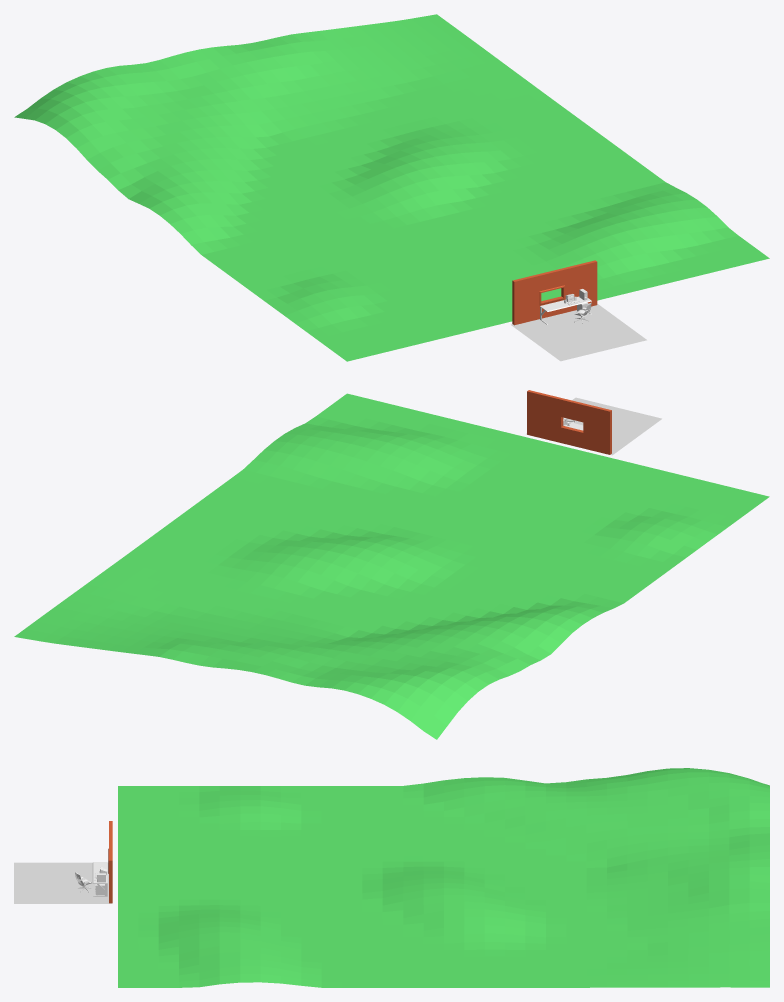
Rendered from modele.glb.
The picture shows the model from 3 angles, top to bottom: view 1: azimuth 30°, elevation 25°; view 2: azimuth 150°, elevation 25°; view 3: azimuth 270°, elevation 25°; orthographic projection. The views are drawn at different scales.
Visible parts, largest first — view 1: Plane, Floor, Wall; view 2: Plane, Wall, Floor; view 3: Plane, Floor.
Part boxes in pixels (bbox=[...]): Plane: bbox=[14, 14, 769, 361]; Floor: bbox=[511, 304, 646, 361]; Wall: bbox=[512, 260, 597, 325]; Plane: bbox=[14, 393, 769, 739]; Wall: bbox=[527, 390, 611, 454]; Floor: bbox=[526, 397, 661, 455]; Plane: bbox=[118, 768, 769, 987]; Floor: bbox=[14, 862, 112, 903].
Bounding box in the file's own units: 200 × 19.61 × 316.
3 materials, 1 textured.
